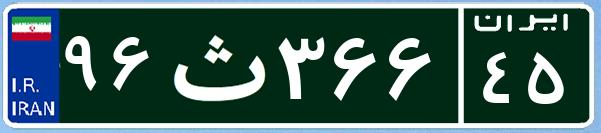3: (273, 28, 330, 110)
4: (475, 38, 525, 113)
5: (525, 38, 570, 115)
6: (385, 28, 445, 110), (330, 28, 385, 110), (110, 28, 158, 105)
9: (57, 26, 110, 107)
ث: (158, 15, 273, 115)
